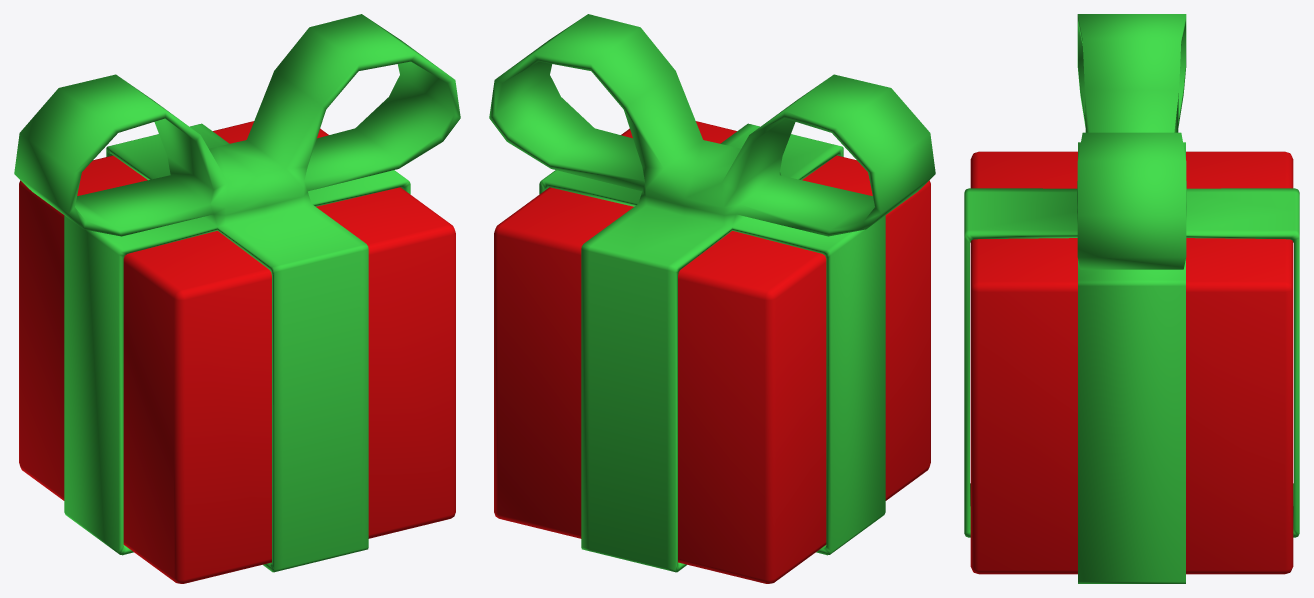
Rendered from Regalo.fbx.
3 renders of one model, left to right at view 1: azimuth 30°, elevation 25°; view 2: azimuth 150°, elevation 25°; view 3: azimuth 270°, elevation 25°, orthographic.
Parts seen in each view (by area): view 1: Nastro, Presente; view 2: Nastro, Presente; view 3: Presente, Nastro.
Part boxes in pixels (bbox=[...]): Nastro: bbox=[14, 14, 460, 572]; Presente: bbox=[19, 121, 455, 583]; Nastro: bbox=[489, 14, 935, 572]; Presente: bbox=[494, 121, 930, 583]; Presente: bbox=[970, 151, 1293, 574]; Nastro: bbox=[964, 14, 1299, 583].
Bounding box in the file's own units: 55.81 × 58.73 × 41.55.
